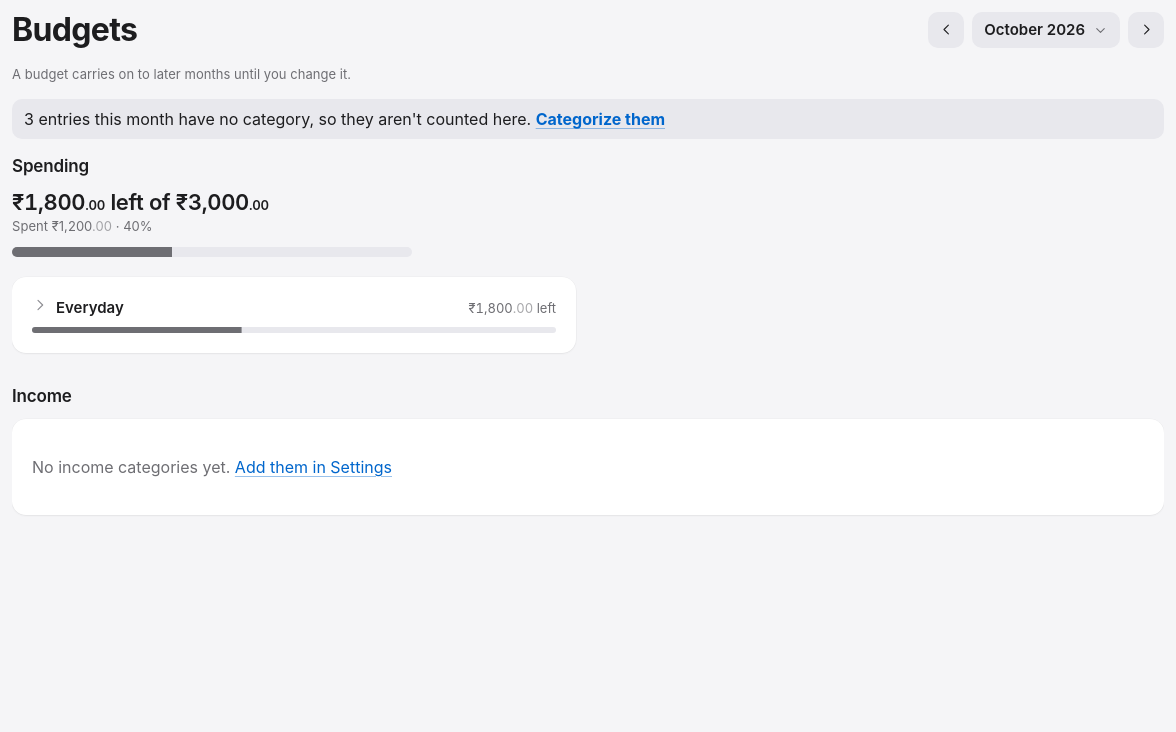
Test: saves for this month only when that's the choice in the bar
Replace the text in the field labelled "Everyday ₹1,800.00 left" with "4500" at {"x": 294, "y": 315}, box [12, 277, 576, 353]
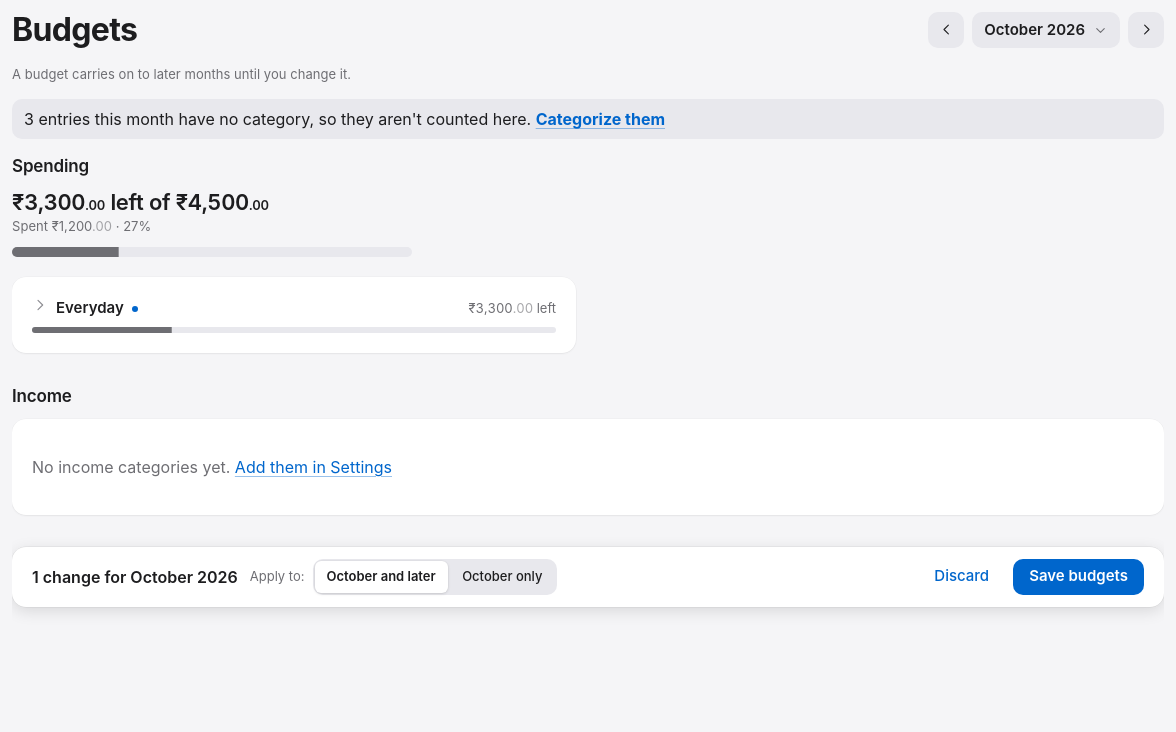
Click the radio button labelled "October only" at {"x": 502, "y": 577}, box [450, 561, 555, 593]
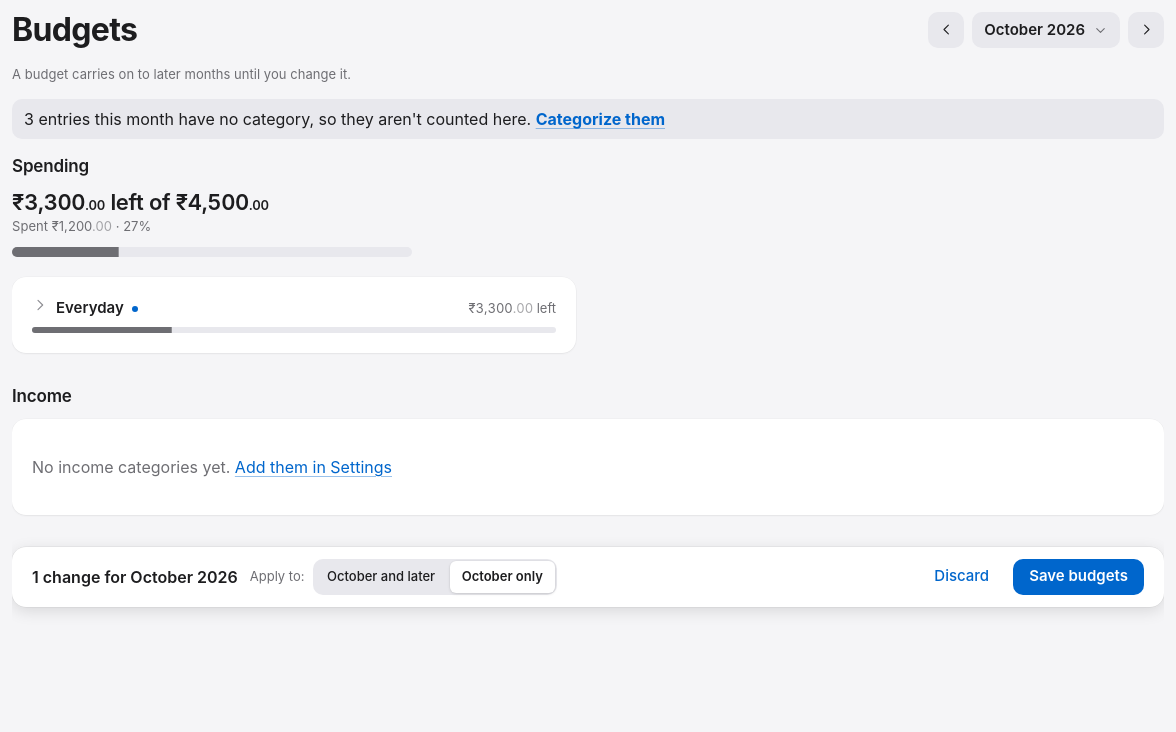
Submit the form
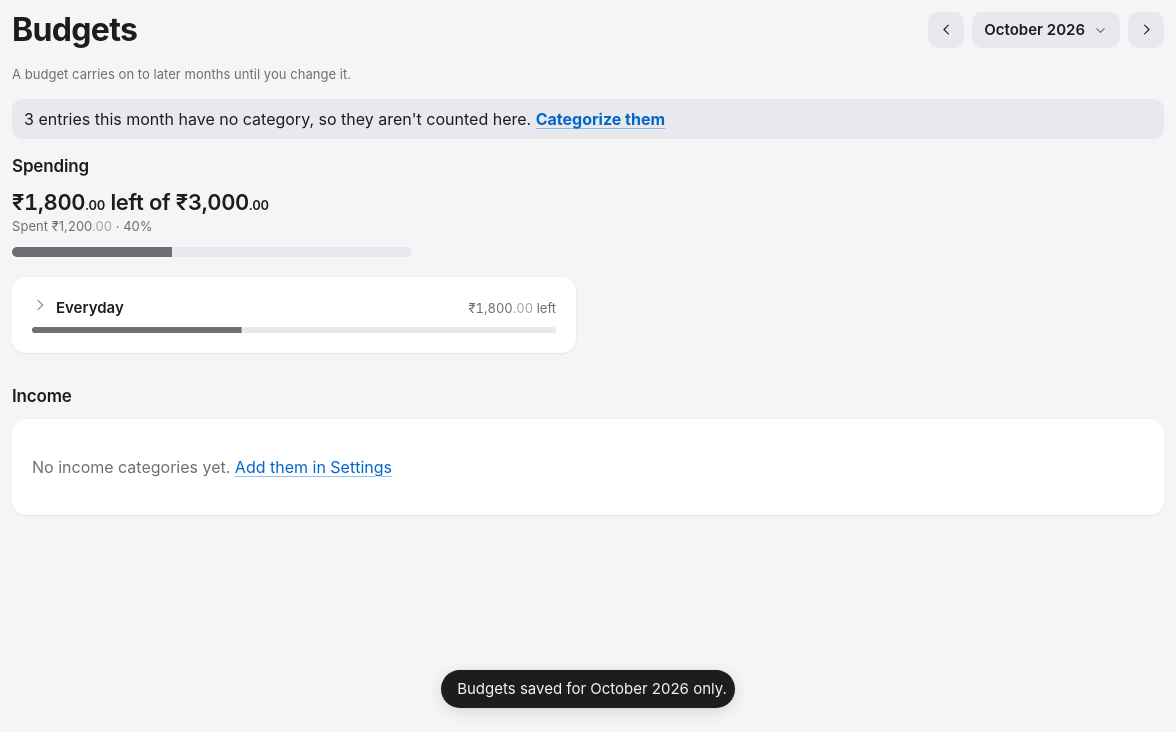
Result: the text "Budgets saved for October 2026 only." is shown at [457, 678, 727, 700]
